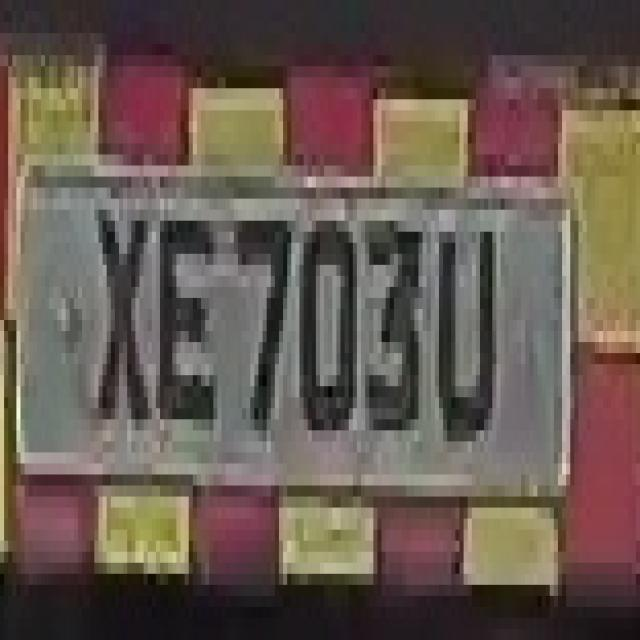0: (291, 165, 353, 464)
3: (361, 176, 418, 464)
7: (213, 166, 300, 430)
E: (152, 154, 230, 486)
U: (426, 144, 508, 430)
X: (86, 165, 148, 408)
